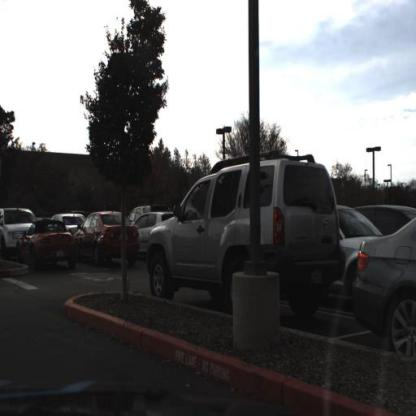car: (146, 147, 345, 325), (353, 210, 416, 360), (75, 207, 140, 267), (16, 217, 80, 276), (131, 209, 169, 260), (2, 206, 36, 260)
